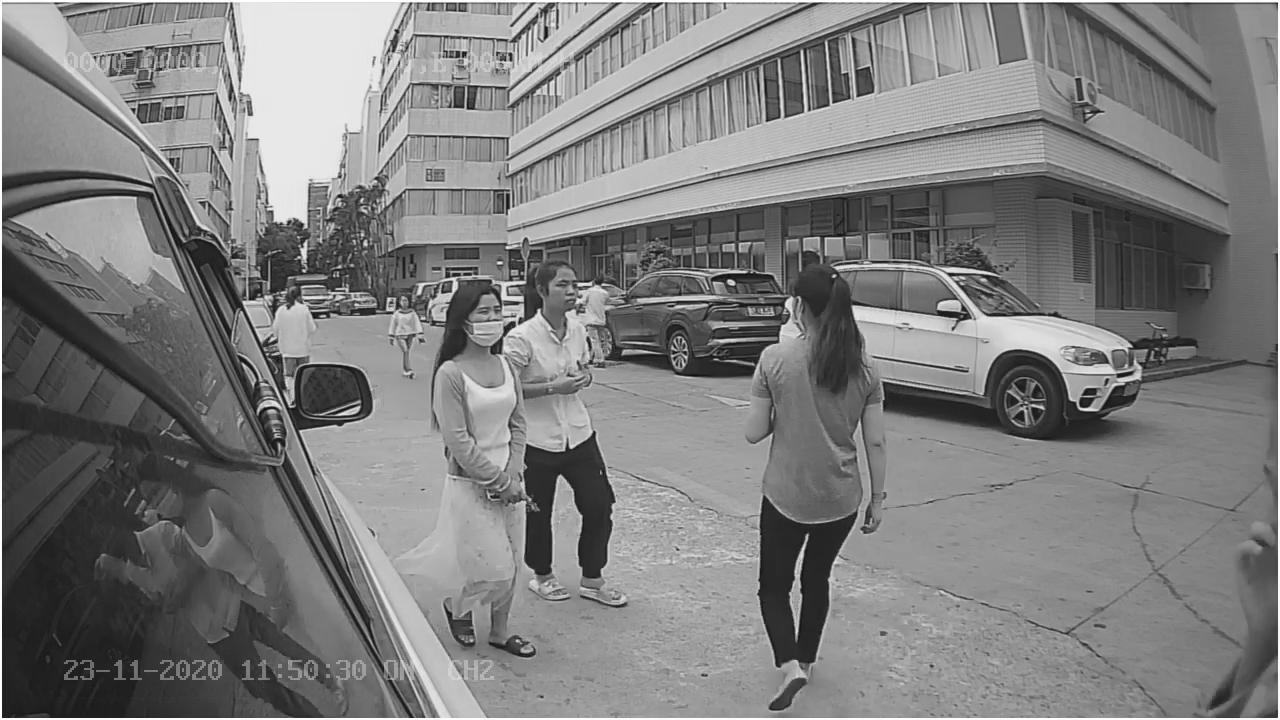person: (743, 254, 892, 710), (429, 279, 549, 657)
